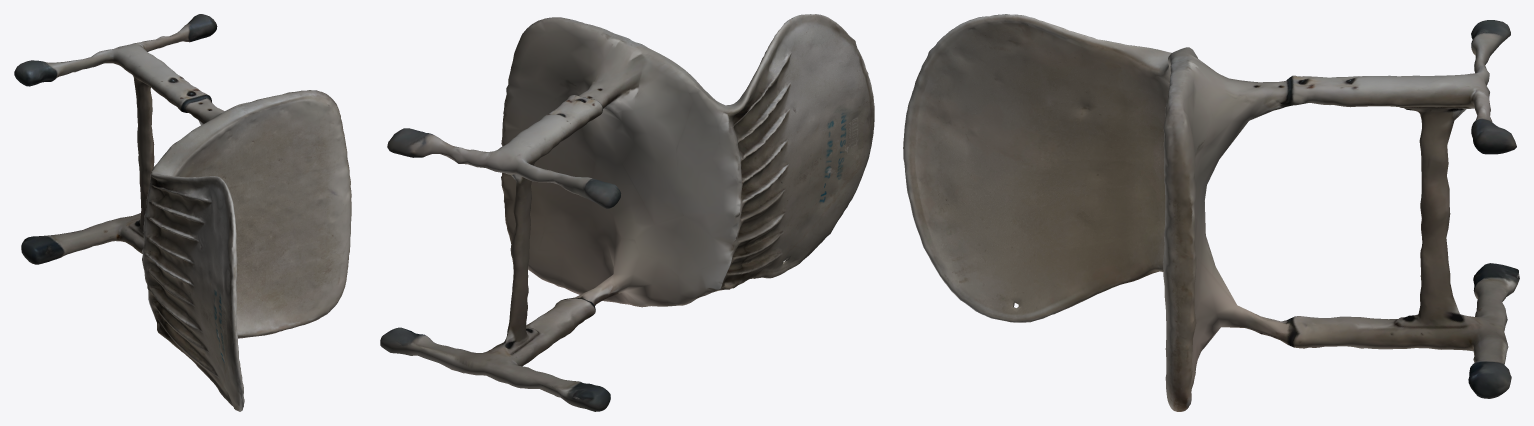
Rendered from Student_chair.obj.
The picture shows the model from 3 angles, left to right: view 1: azimuth 30°, elevation 25°; view 2: azimuth 150°, elevation 25°; view 3: azimuth 270°, elevation 25°; orthographic projection. The views are drawn at different scales.
Visible parts, largest first — view 1: obj1; view 2: obj1; view 3: obj1.
Part boxes in pixels (left/top/right/bottom): obj1: left=14, top=14, right=351, bottom=411; obj1: left=380, top=14, right=874, bottom=411; obj1: left=903, top=14, right=1519, bottom=411.
Bounding box in the file's own units: 0.4303 × 0.4395 × 0.7817.
1 material, 1 textured.
